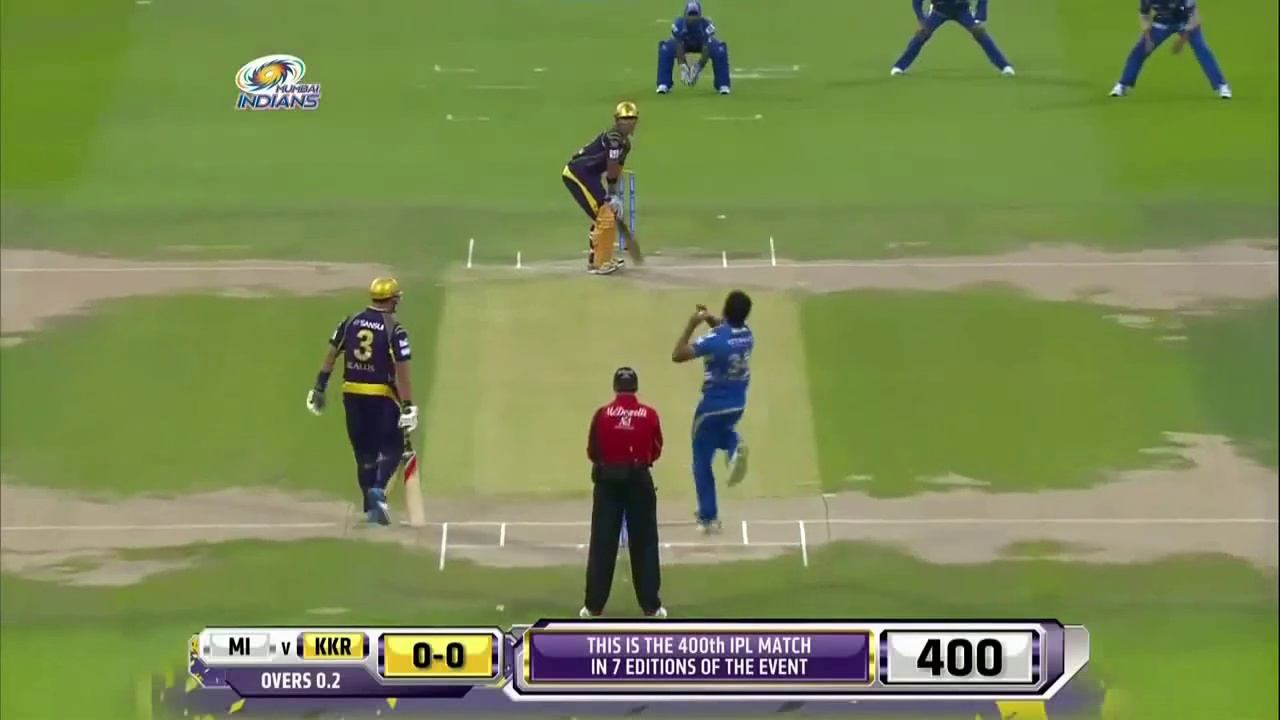bat: (402, 436, 424, 528)
